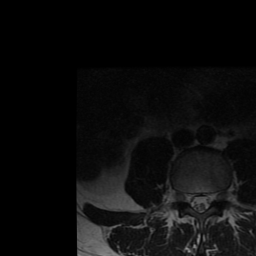CCS_normal: (195, 188, 204, 216)
LFS_normal: (212, 187, 220, 207)
LLS_normal: (204, 188, 211, 211)
RFS_normal: (180, 187, 189, 208)
RLS_normal: (189, 187, 196, 214)
